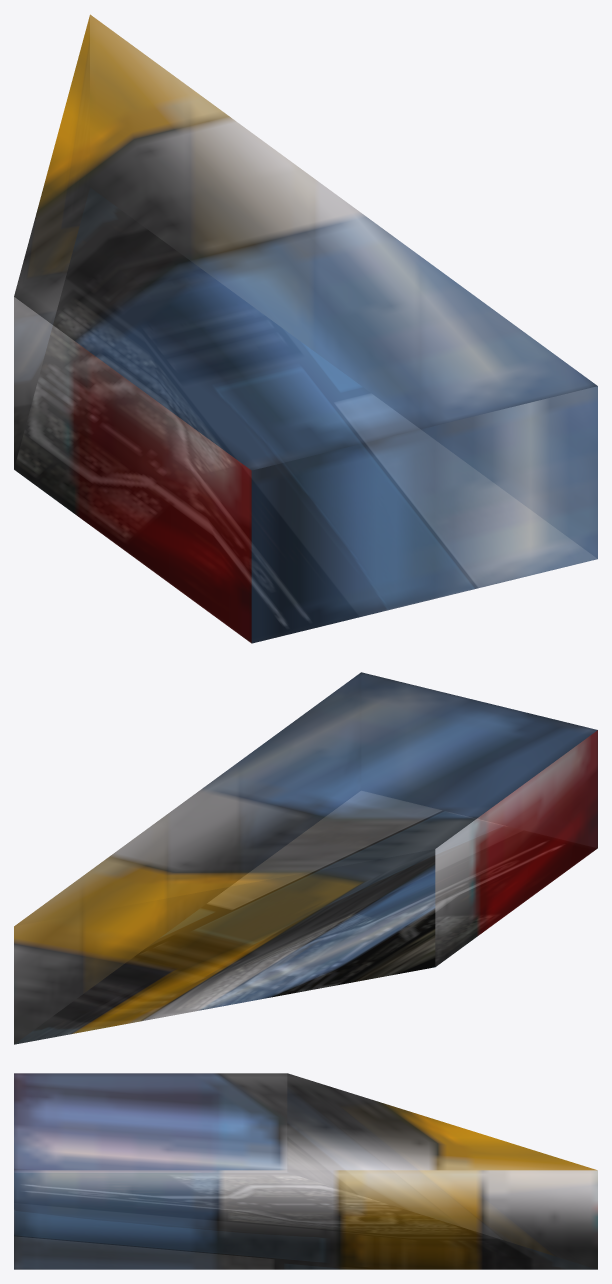
Rendered from Shared - Ground Vehicles - Police Car - CVPoliceCar_x12.glb.
3 renders of one model, top to bottom at view 1: azimuth 30°, elevation 25°; view 2: azimuth 150°, elevation 25°; view 3: azimuth 270°, elevation 25°, orthographic. The views are drawn at different scales.
Visible parts, largest first — view 1: CVPOLICECAR_X12; view 2: CVPOLICECAR_X12; view 3: CVPOLICECAR_X12.
Boxes of the visible parts, bbox=[...] form: CVPOLICECAR_X12: bbox=[14, 14, 597, 643]; CVPOLICECAR_X12: bbox=[14, 672, 597, 1044]; CVPOLICECAR_X12: bbox=[14, 1073, 597, 1269].
Bounding box in the file's own units: 1.61 × 0.7664 × 4.08.
1 material, 1 textured.
